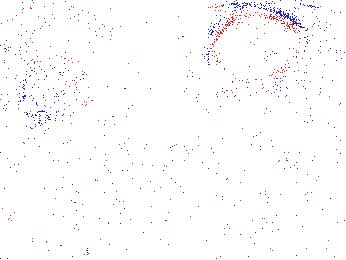moon jellyfish: (208, 8, 303, 84), (1, 2, 112, 53), (24, 55, 90, 126), (310, 14, 346, 97)
